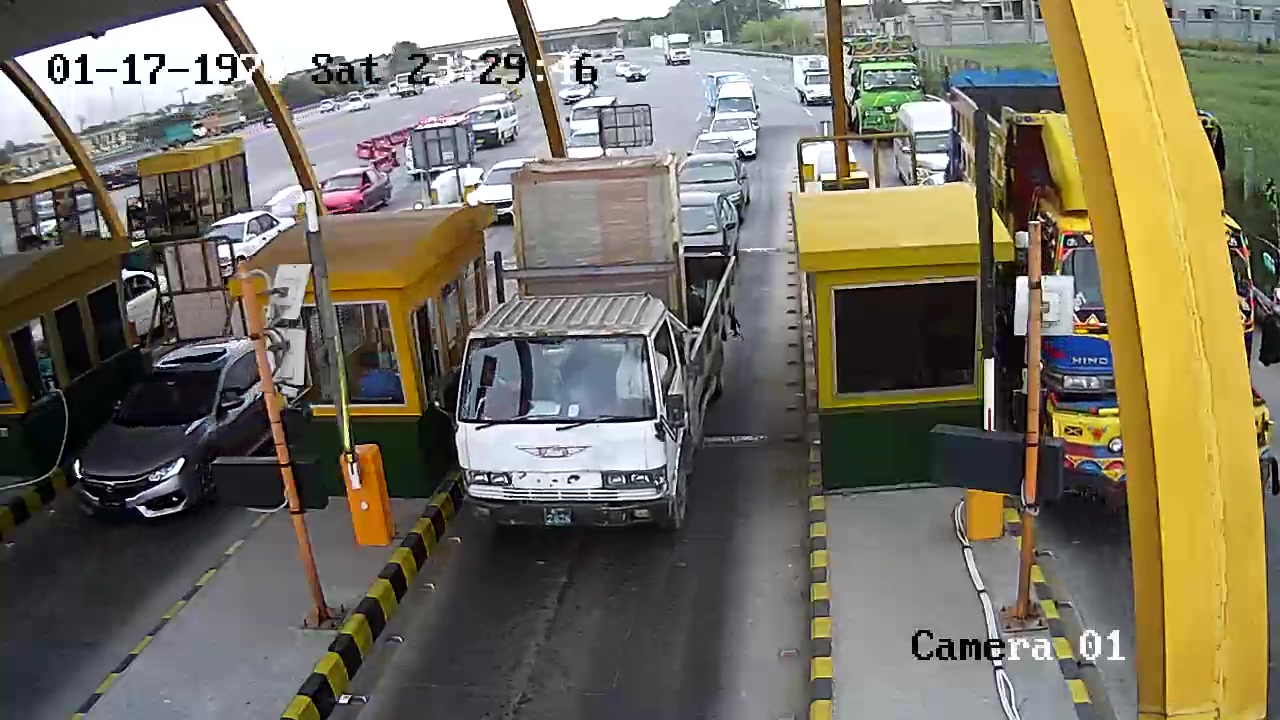F3: (457, 138, 743, 536)
